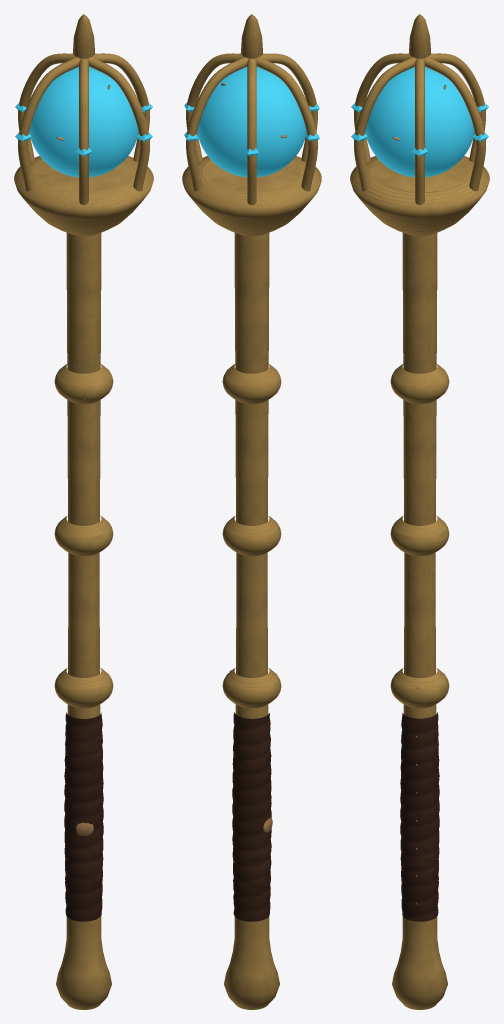
File: scepter.glb
3 renders of one model, left to right at view 1: azimuth 90°, elevation 25°; view 2: azimuth 150°, elevation 25°; view 3: azimuth 270°, elevation 25°, orthographic.
Visible parts, largest first — view 1: brass / polished brass furniture, crystal / faceted crystal, leather / oiled leather wrap; view 2: brass / polished brass furniture, crystal / faceted crystal, leather / oiled leather wrap; view 3: brass / polished brass furniture, crystal / faceted crystal, leather / oiled leather wrap.
Part boxes in pixels (x1=…): brass / polished brass furniture: x1=14, y1=14, x2=153, y2=1009; crystal / faceted crystal: x1=15, y1=66, x2=152, y2=177; leather / oiled leather wrap: x1=64, y1=712, x2=103, y2=921; brass / polished brass furniture: x1=182, y1=14, x2=321, y2=1009; crystal / faceted crystal: x1=184, y1=66, x2=319, y2=177; leather / oiled leather wrap: x1=232, y1=712, x2=271, y2=921; brass / polished brass furniture: x1=350, y1=14, x2=489, y2=1009; crystal / faceted crystal: x1=351, y1=66, x2=488, y2=177; leather / oiled leather wrap: x1=400, y1=712, x2=439, y2=921.
Bounding box in the file's own units: 0.112 × 0.7807 × 0.1.
Materials: 6 (2 with a texture image).
